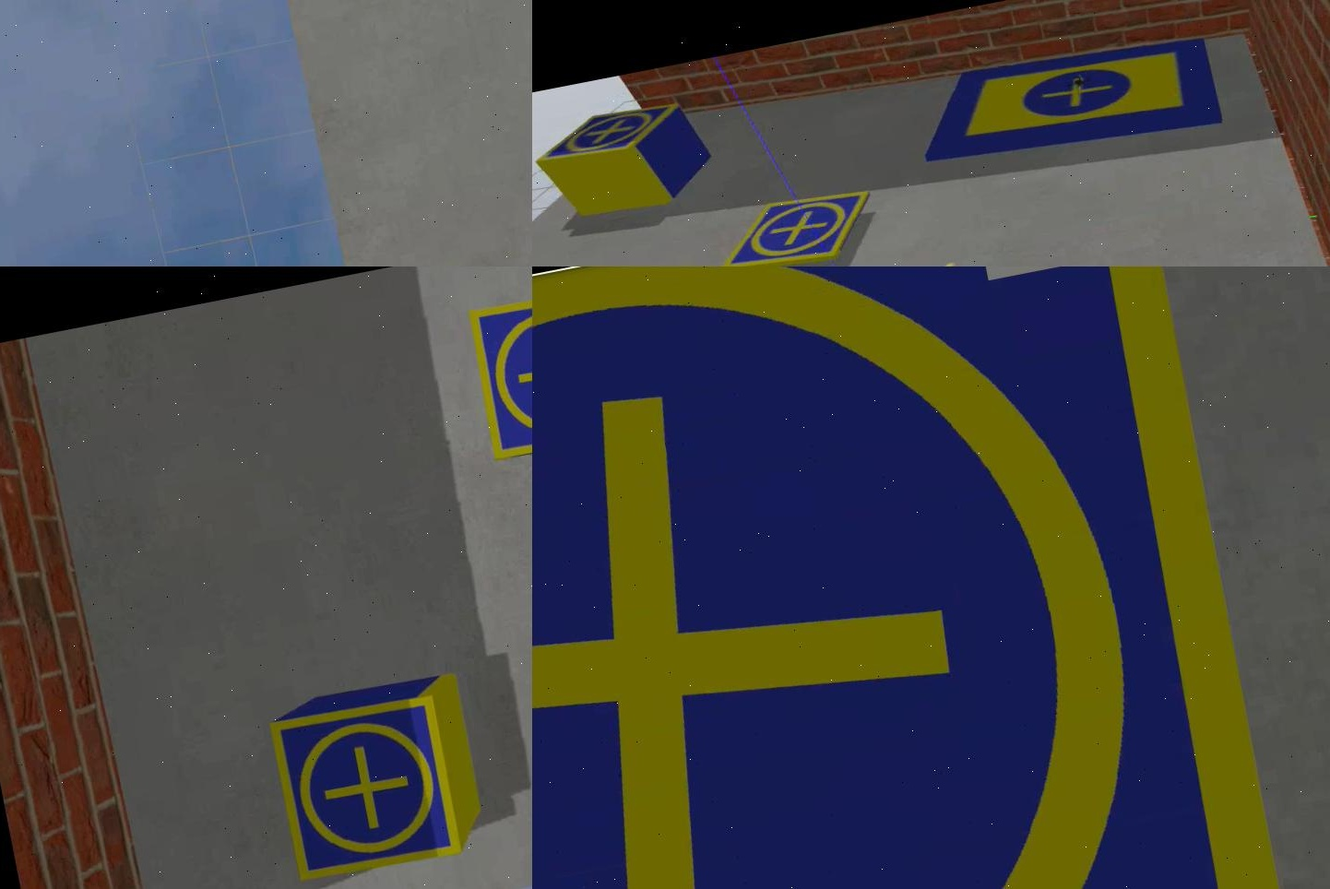large_base: (531, 267, 1308, 889), (908, 28, 1220, 172)
small_base: (266, 691, 465, 889), (709, 183, 880, 267), (465, 282, 531, 465), (531, 104, 681, 172)
